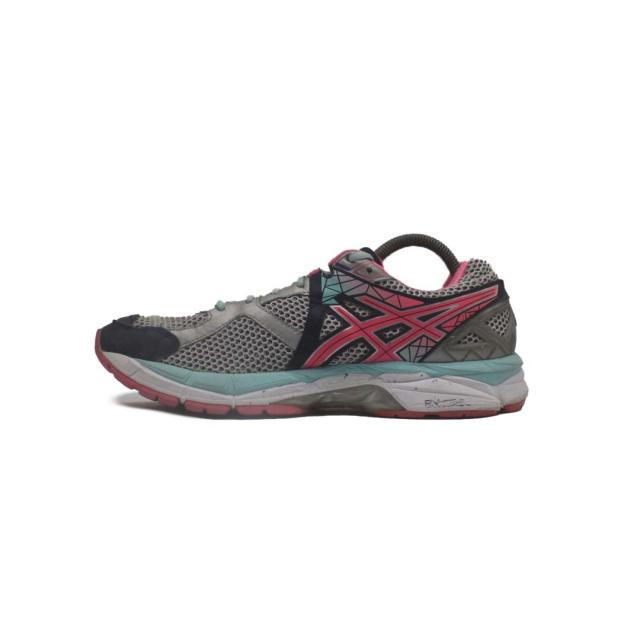heel: (454, 261, 517, 360)
midsole: (93, 322, 526, 415)
uppersole: (99, 252, 491, 377)
